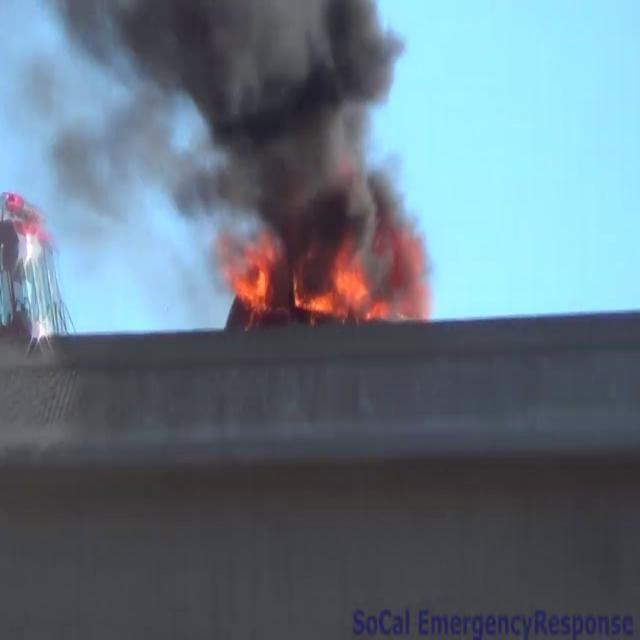Fire: (300, 245, 438, 328), (228, 242, 278, 312)
Smoke: (5, 0, 429, 279)
